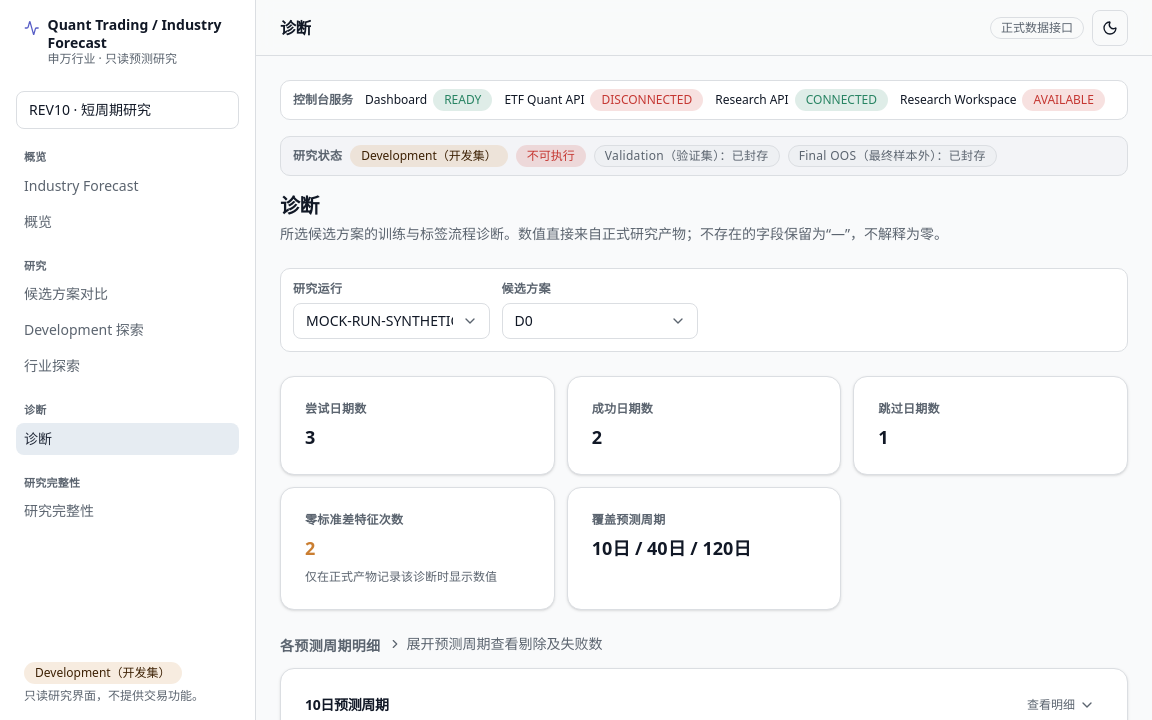
Diagnostics page › shows per-horizon training summary and expands full issue details
Check: the heading "10日预测周期" is shown, box 305,694 -> 389,714
Note: Real warnings are hidden behind details but never removed — expand horizon 10.
Click the button "查看明细". click: click(1061, 704)
box: 1019,692 -> 1103,716
(page scrolled)
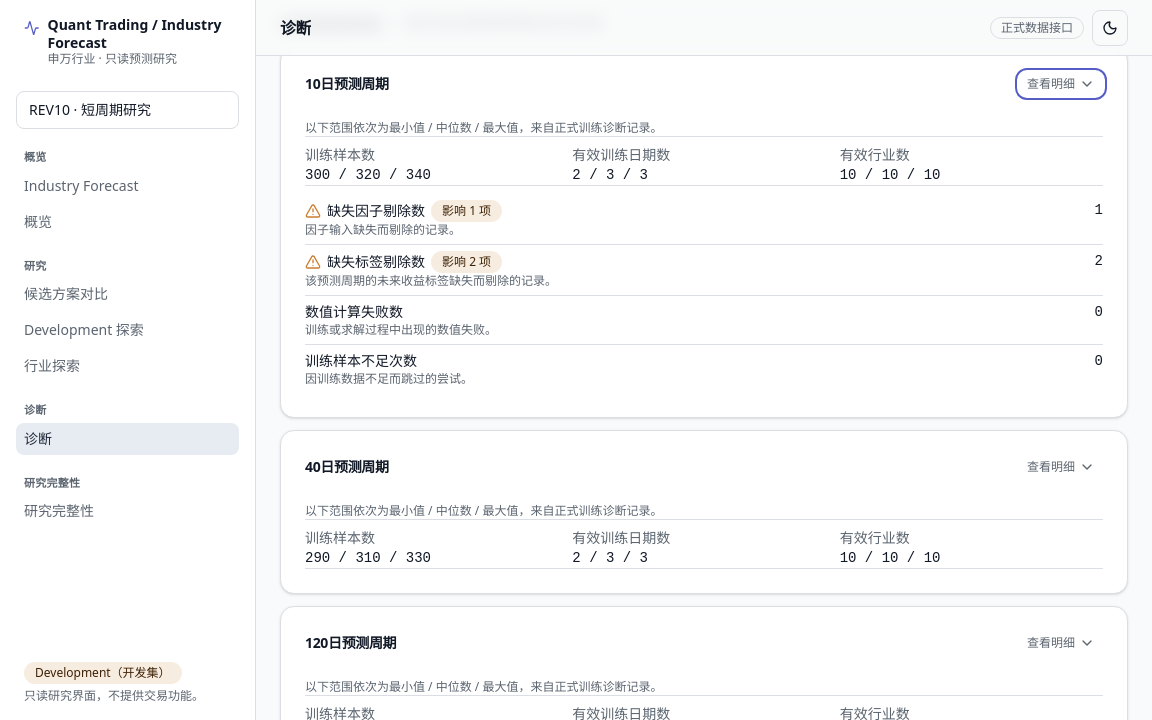
Check: the text "缺失因子剔除数" is shown, box 327,200 -> 425,220
Check: the text "缺失标签剔除数" is shown, box 327,252 -> 425,272
Check: the text "数值计算失败数" is shown, box 305,302 -> 403,322
